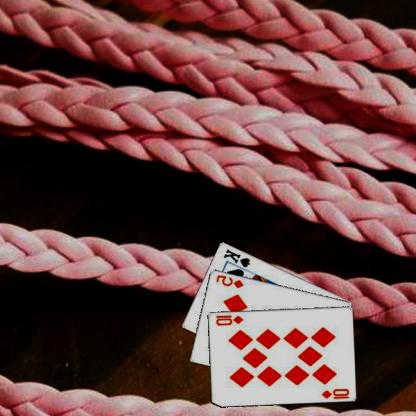10D: (320, 386, 352, 400), (215, 312, 246, 326)
5D: (215, 272, 247, 290)
KS: (223, 246, 253, 268)
